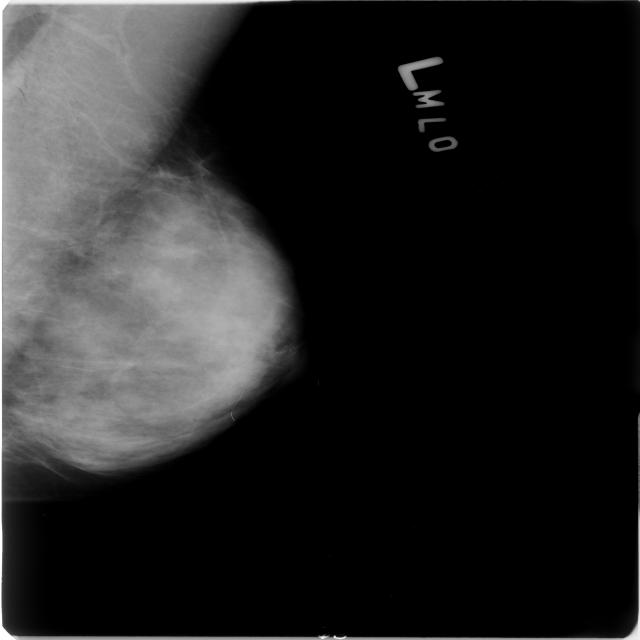normal: (0, 0, 319, 505)
